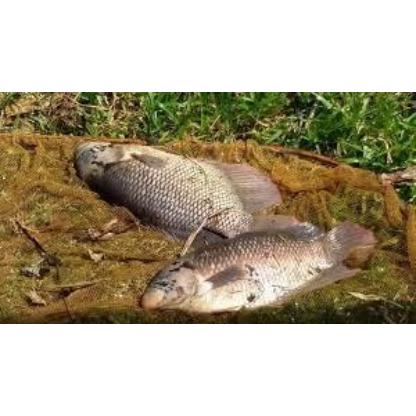gurame: (138, 219, 372, 316), (69, 136, 273, 238)
